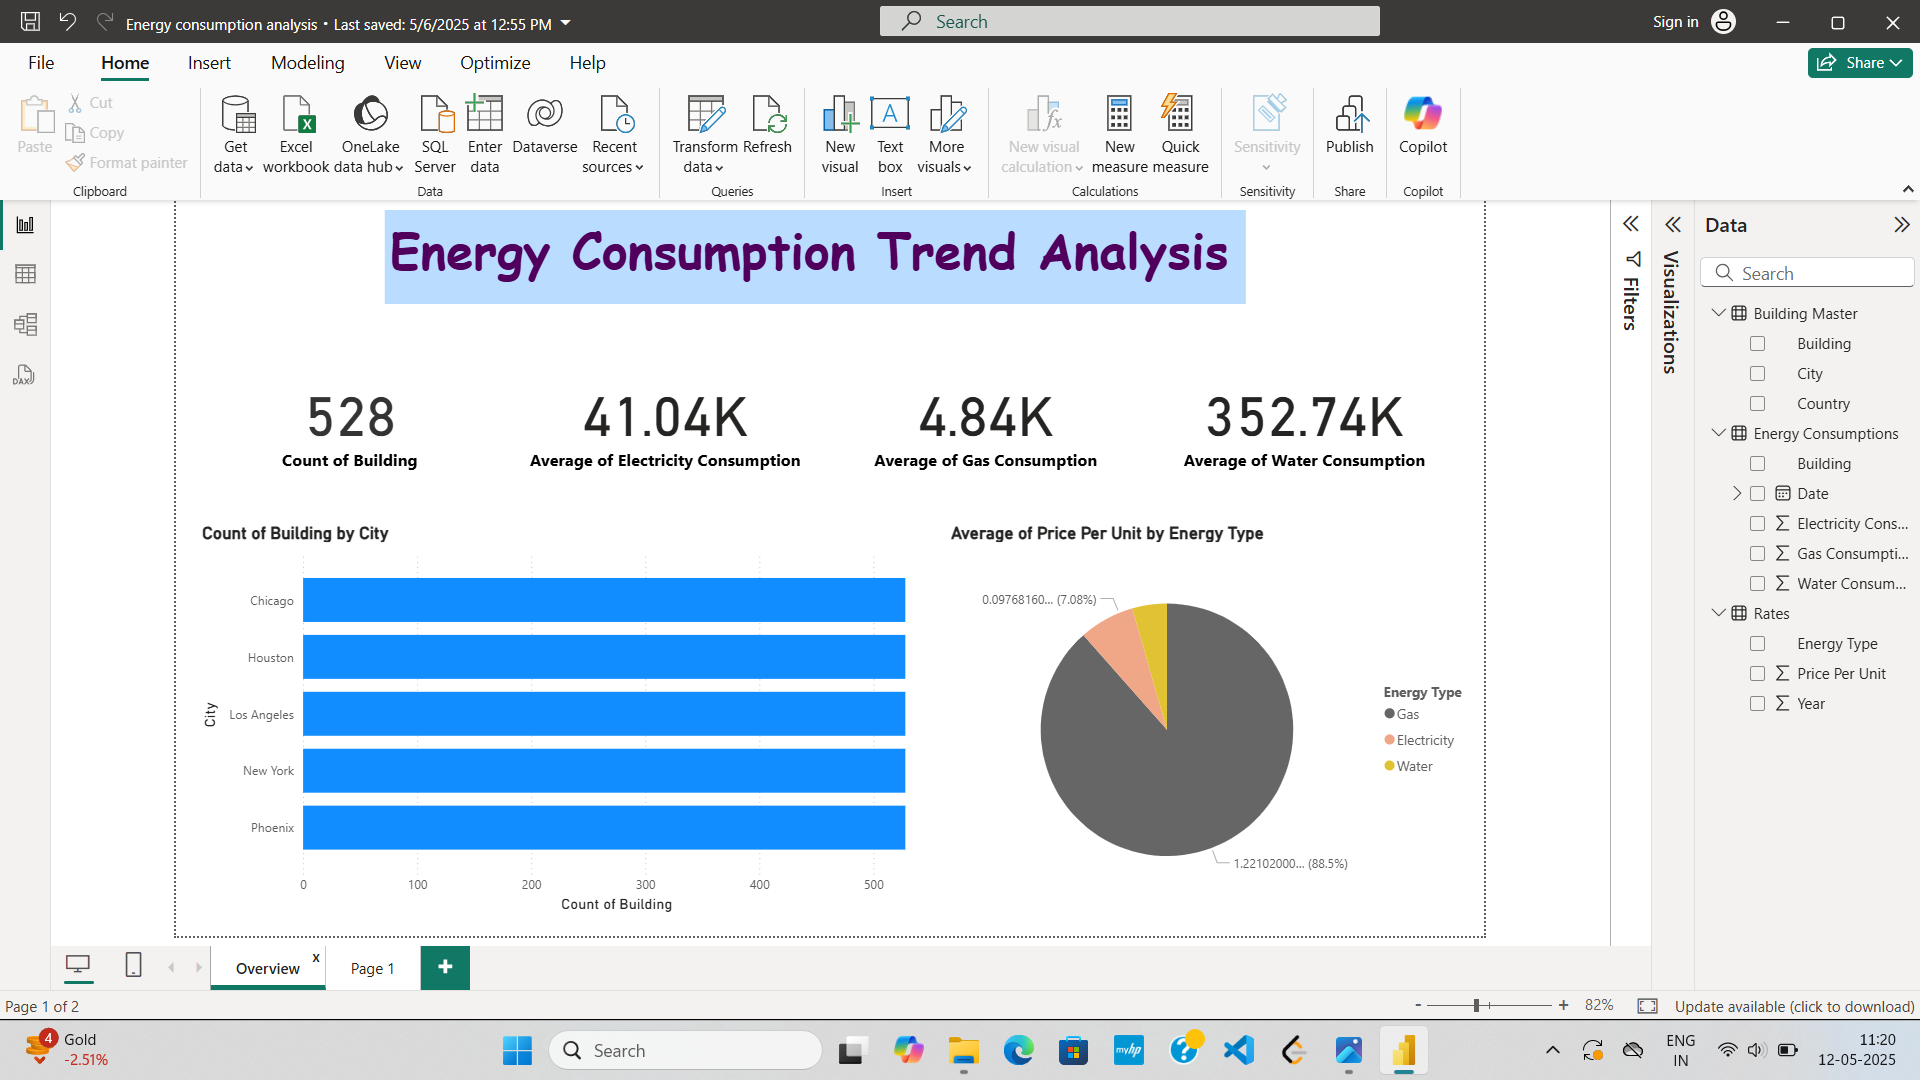

The page's visual inventory and layout, read from the dashboard file:
{"tool":"powerbi","page":{"name":"Overview","canvas":[1280,720],"ordinal":0},"visuals":[{"type":"textbox","box":[204.5,9.6,842.5,91.9],"z":0},{"type":"card","fields":{"Values":["CountNonNull(Energy Consumptions.Building)"]},"box":[20.6,116.6,299.1,199],"z":1000},{"type":"card","fields":{"Values":["Avg(Energy Consumptions.Electricity Consumption)"]},"box":[319.7,116.6,319.7,199],"z":2000},{"type":"card","fields":{"Values":["Avg(Energy Consumptions.Gas Consumption)"]},"box":[639.5,116.6,306,199],"z":3000},{"type":"card","fields":{"Values":["Avg(Energy Consumptions.Water Consumption)"]},"box":[940,116.6,328,199],"z":4000},{"type":"barChart","title":"Count of Building by City","fields":{"Category":["Building Master.Column2"],"Y":["CountNonNull(Energy Consumptions.Building)"]},"box":[20.6,315.6,732.8,387],"z":5000},{"type":"pieChart","fields":{"Y":["Avg(Rates.Price Per Unit)"],"Category":["Rates.Energy Type"]},"box":[753.3,315.6,526.9,387],"z":6000}]}

Visuals, with their boxes on the page's 1280x720 design canvas (x1, y1, x2, y2). These are canvas units, not pixel positions in the 1920x1080 screenshot, which may show the page scaled, cropped or inside an application window:
textbox: locate(204, 10, 1047, 102)
card - CountNonNull(Energy Consumptions.Building): locate(21, 117, 320, 316)
card - Avg(Energy Consumptions.Electricity Consumption): locate(320, 117, 639, 316)
card - Avg(Energy Consumptions.Gas Consumption): locate(640, 117, 946, 316)
card - Avg(Energy Consumptions.Water Consumption): locate(940, 117, 1268, 316)
"Count of Building by City" barChart: locate(21, 316, 753, 703)
pieChart - Avg(Rates.Price Per Unit) x Rates.Energy Type: locate(753, 316, 1280, 703)
